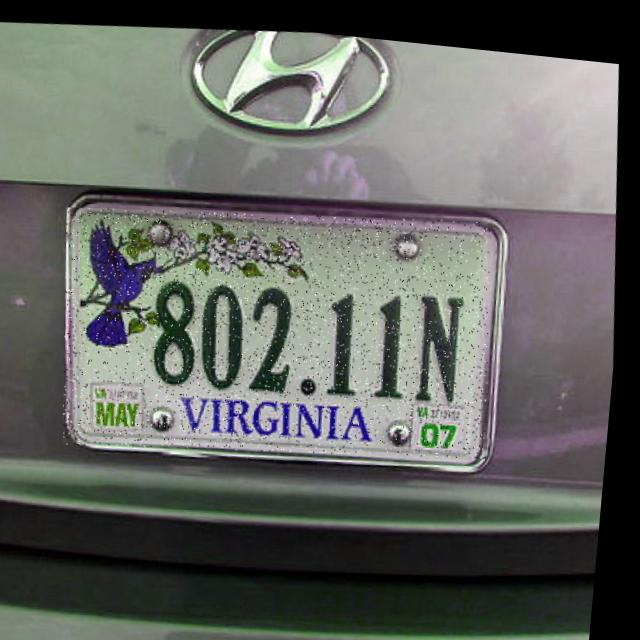license_plate: (54, 175, 510, 476)
